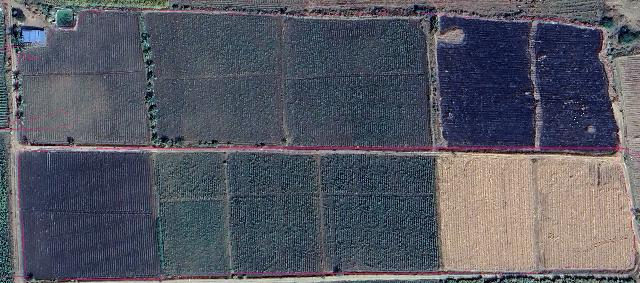DryFarms: (439, 158, 542, 276), (538, 159, 636, 271)
EmptyFarms: (436, 15, 533, 150), (539, 22, 619, 148)
Farms: (284, 18, 433, 148), (142, 14, 283, 143), (21, 153, 159, 283), (21, 10, 150, 146), (319, 155, 440, 275), (226, 154, 323, 279), (154, 152, 227, 279)
water: (55, 8, 75, 28)
